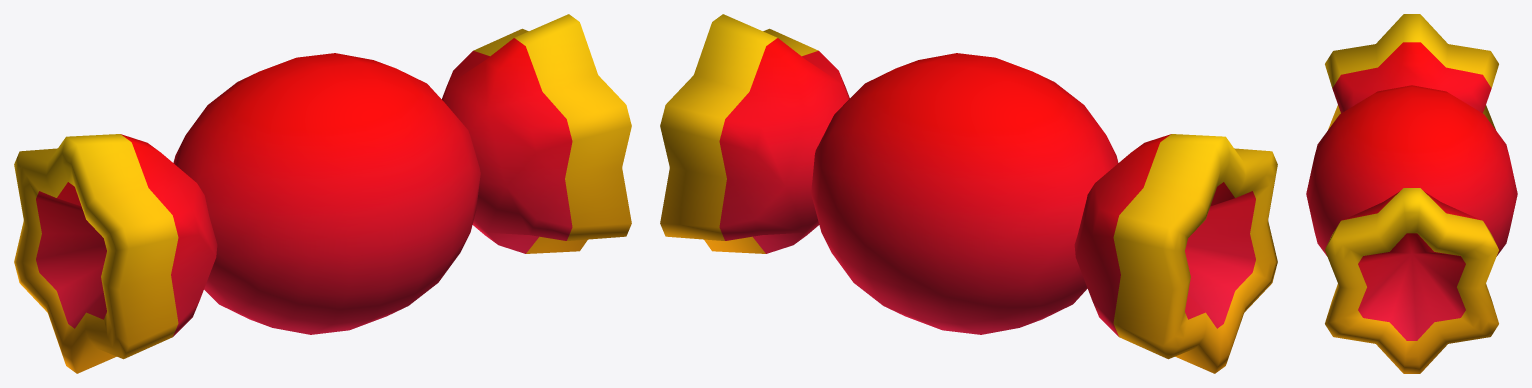
Rendered from candy_014.glb.
3 renders of one model, left to right at view 1: azimuth 30°, elevation 25°; view 2: azimuth 150°, elevation 25°; view 3: azimuth 270°, elevation 25°, orthographic. The views are drawn at different scales.
Parts seen in each view (by area): view 1: candy_014; view 2: candy_014; view 3: candy_014.
Boxes of the visible parts, left/top/right/bottom form: candy_014: left=14, top=14, right=631, bottom=373; candy_014: left=660, top=14, right=1277, bottom=373; candy_014: left=1306, top=14, right=1517, bottom=373.
Bounding box in the file's own units: 4.55 × 2.15 × 2.15.
Materials: 1 (1 with a texture image).
